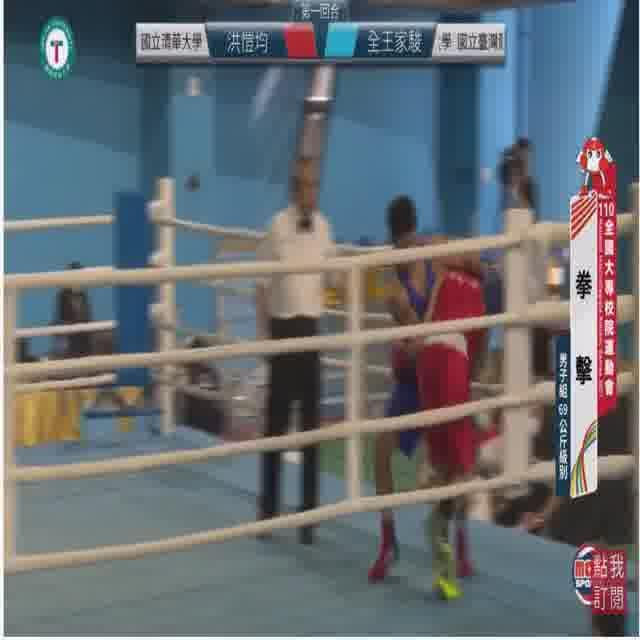blue-player: (365, 192, 477, 586)
red-player: (390, 256, 490, 611)
referee: (250, 156, 342, 547)
